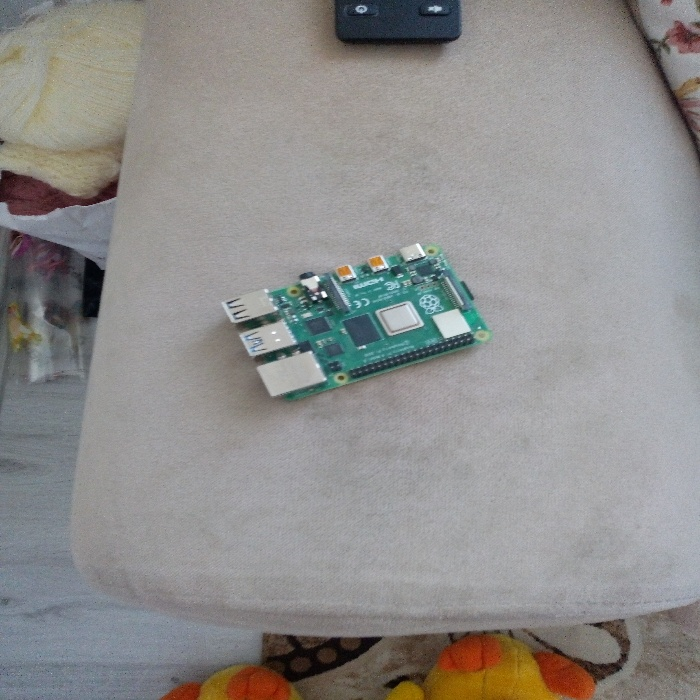raspberry: (216, 231, 488, 401)
